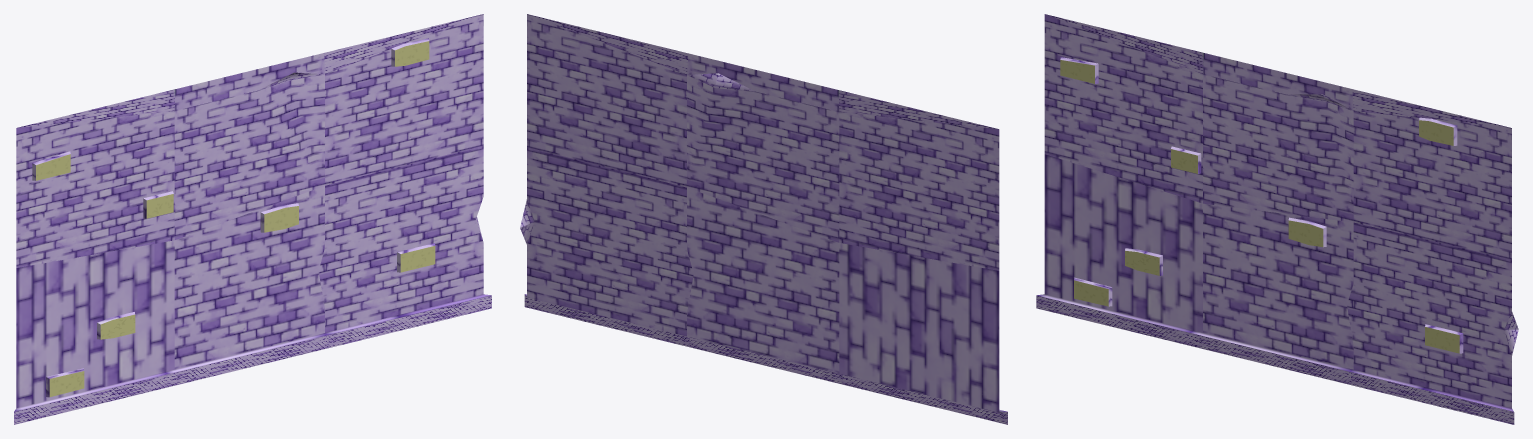
File: House_Wall_01.fbx
3 views of the same model, side by side, from view 1: azimuth 30°, elevation 25°; view 2: azimuth 150°, elevation 25°; view 3: azimuth 330°, elevation 25° (orthographic).
Parts seen in each view (by area): view 1: House_Wall; view 2: House_Wall; view 3: House_Wall.
Part boxes in pixels (<box>): House_Wall: <box>14,14,491,424</box>; House_Wall: <box>520,14,1007,424</box>; House_Wall: <box>1036,14,1518,424</box>.
Size of the model in its own units: 511 by 300 by 18.46.
